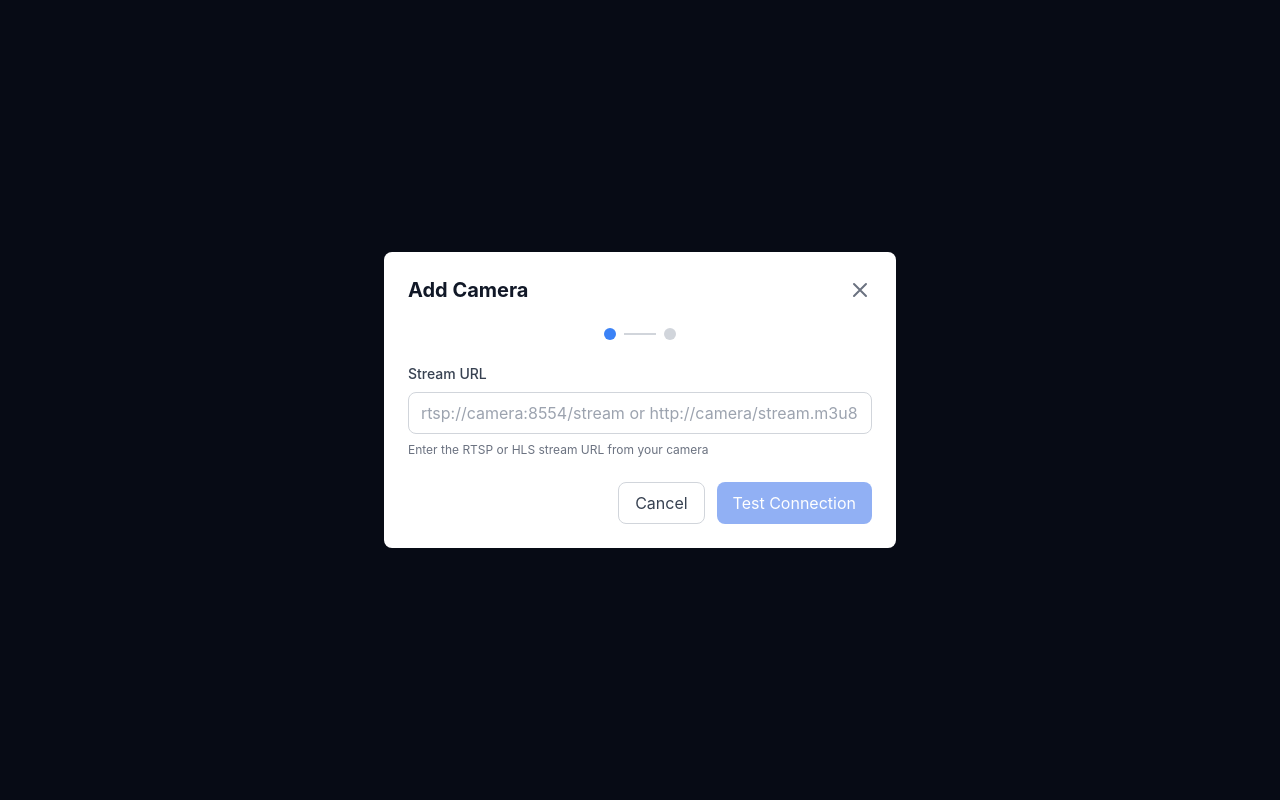
Test: AddCameraModal › should show error when stream test fails
Type "rtsp://test:8554/stream" into the field with placeholder "rtsp://camera:8554/stream or http://camera/stream.m3u8". click: coordinates (640, 413)
box: [408,392,872,434]
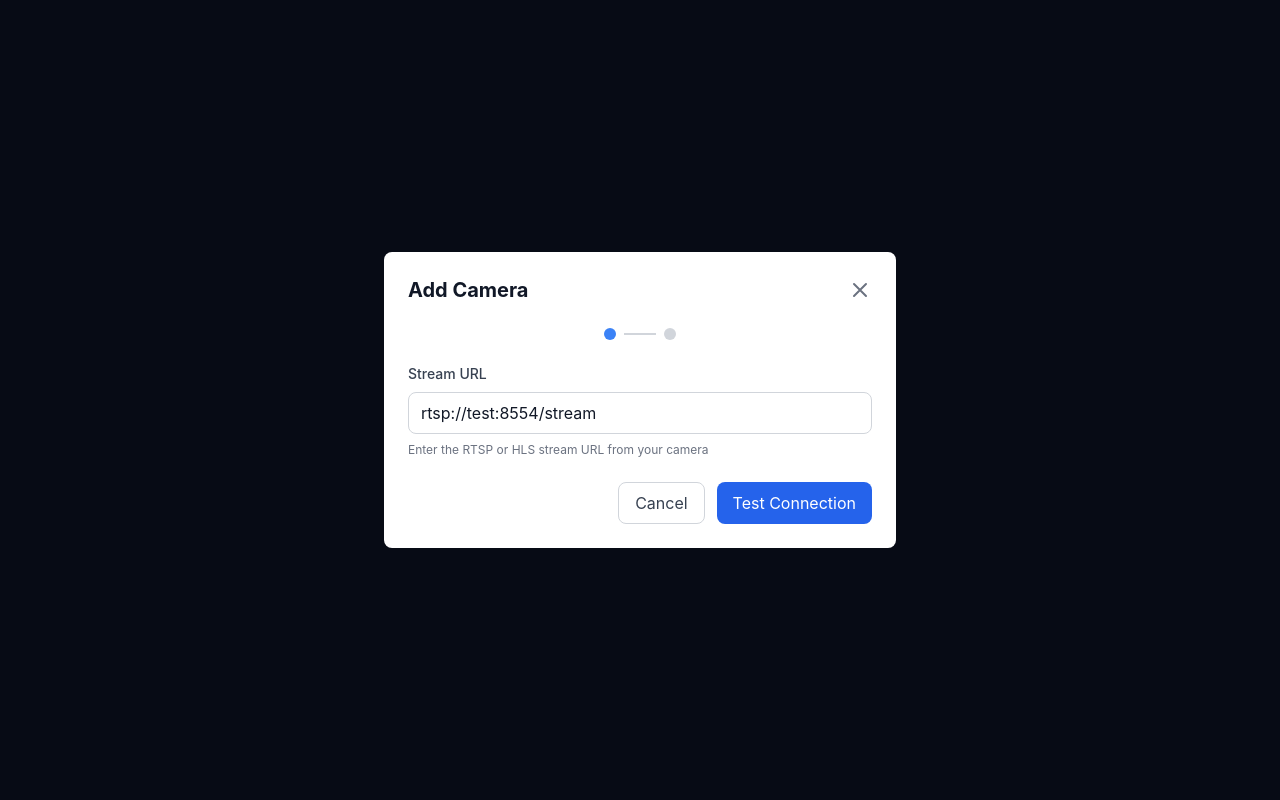
Click the button "Test Connection". click: coordinates (794, 503)
box: [717,482,872,524]
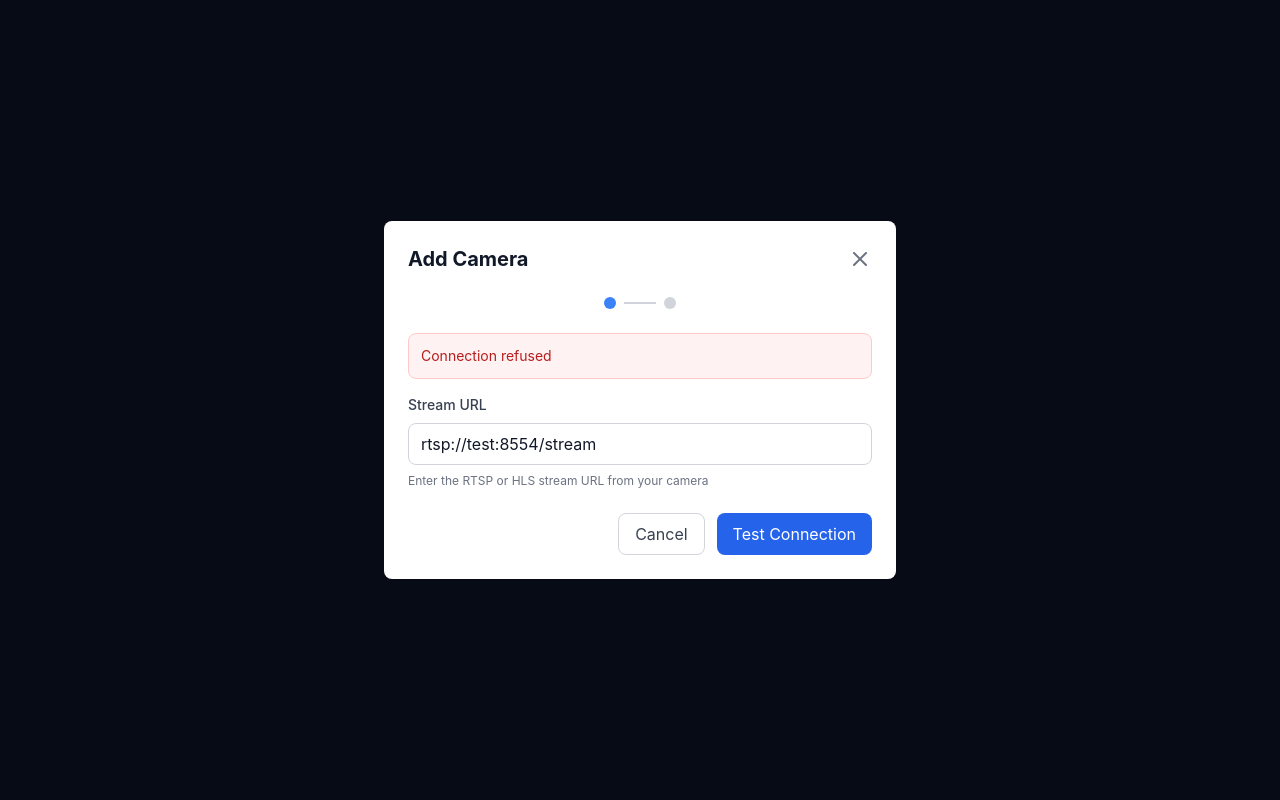
Check: the text "Connection refused" is shown, box [408,333,872,379]
